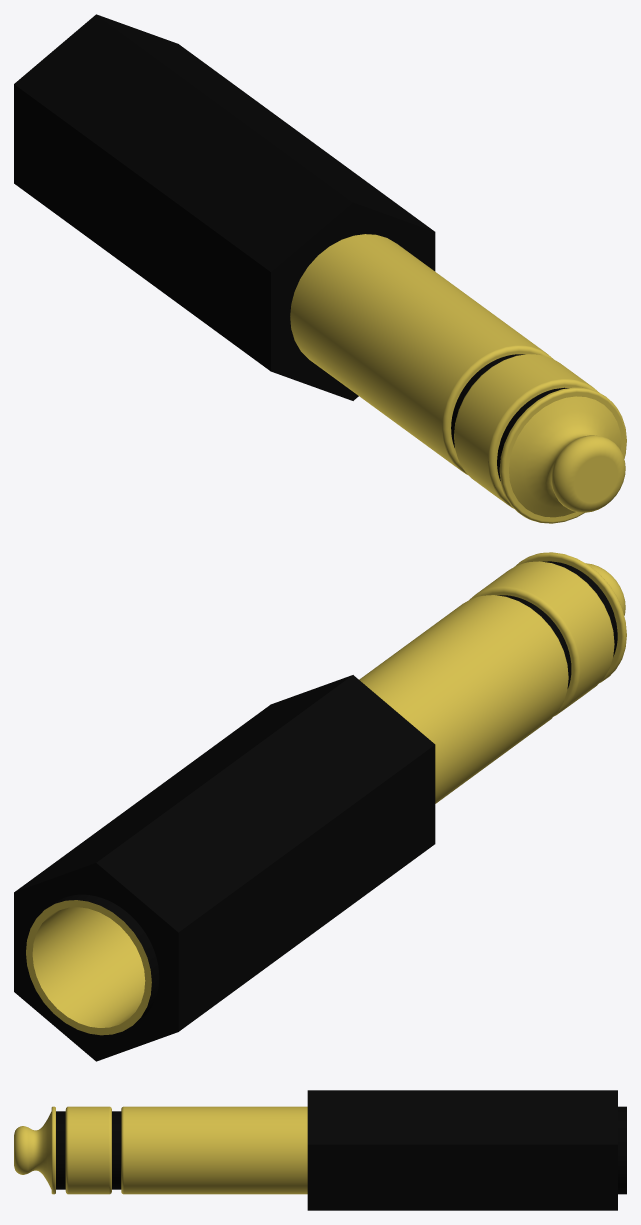
Rendered from TIP_SBlack.fbx.
3 views of the same model, one above another, from view 1: azimuth 30°, elevation 25°; view 2: azimuth 150°, elevation 25°; view 3: azimuth 270°, elevation 25° (orthographic). The views are drawn at different scales.
Visible parts, largest first — view 1: TIP_Black; view 2: TIP_Black; view 3: TIP_Black.
Part boxes in pixels (x1,y1,x2,y2): TIP_Black: (14, 14, 626, 523); TIP_Black: (14, 552, 626, 1061); TIP_Black: (14, 1090, 626, 1210).
Size of the model in its own units: 1231 by 1421 by 6573.
